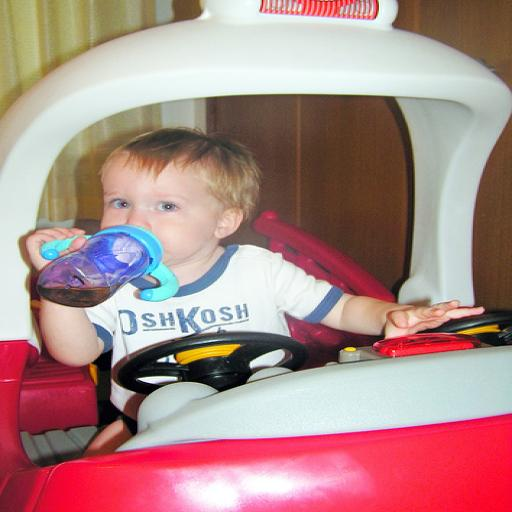person: (23, 129, 487, 460)
